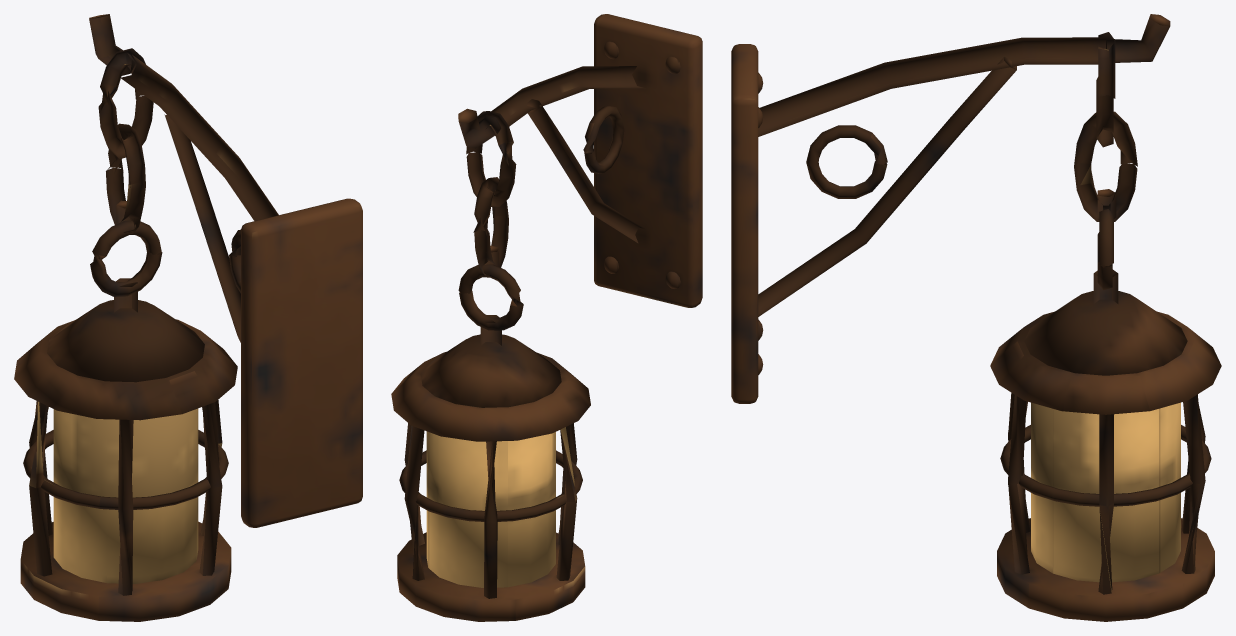
File: cellar_sconce.obj
3 views of the same model, side by side, from view 1: azimuth 30°, elevation 25°; view 2: azimuth 150°, elevation 25°; view 3: azimuth 270°, elevation 25° (orthographic). The views are drawn at different scales.
Parts seen in each view (by area): view 1: part0, fire; view 2: part0, fire; view 3: part0, fire.
Part boxes in pixels (x1,y1,x2,y2): part0: (14,14,362,621); fire: (53,408,198,583); part0: (391,14,702,621); fire: (426,431,555,587); part0: (731,14,1221,621); fire: (1031,402,1180,582).
Size of the model in its own units: 0.34 by 0.9058 by 0.72.
